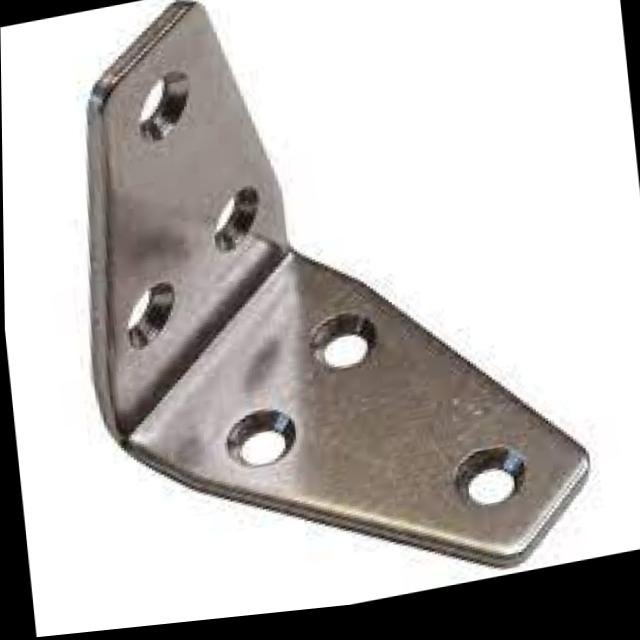holes: (451, 450, 531, 522), (222, 406, 299, 477), (134, 69, 197, 146), (308, 313, 379, 380), (209, 186, 266, 257), (123, 281, 180, 351)
